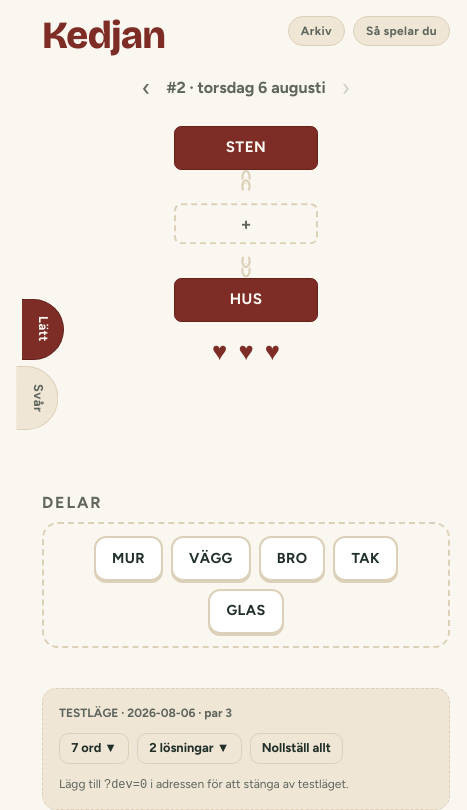
Test: building the chain › accepts a part that welds on one side only, free of charge
Click the button with aria-label "vägg.". click: [211, 558]
box: [171,536,251,581]
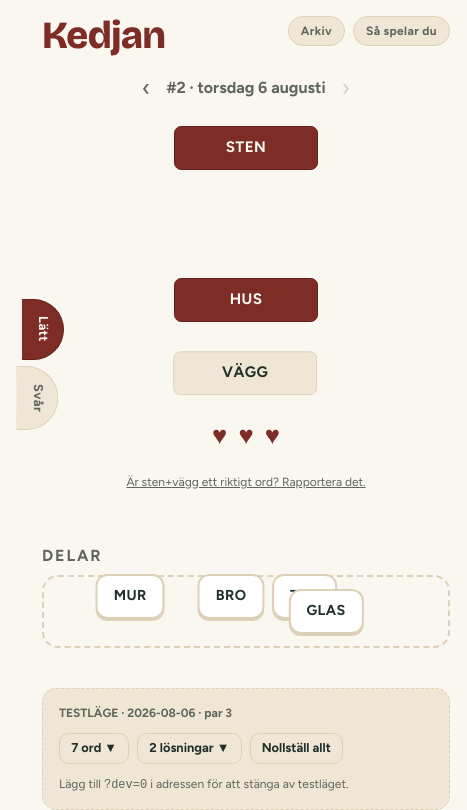
expect the button with aria-label "länk 1, vägg." is shown: met, box [174,302,318,346]
